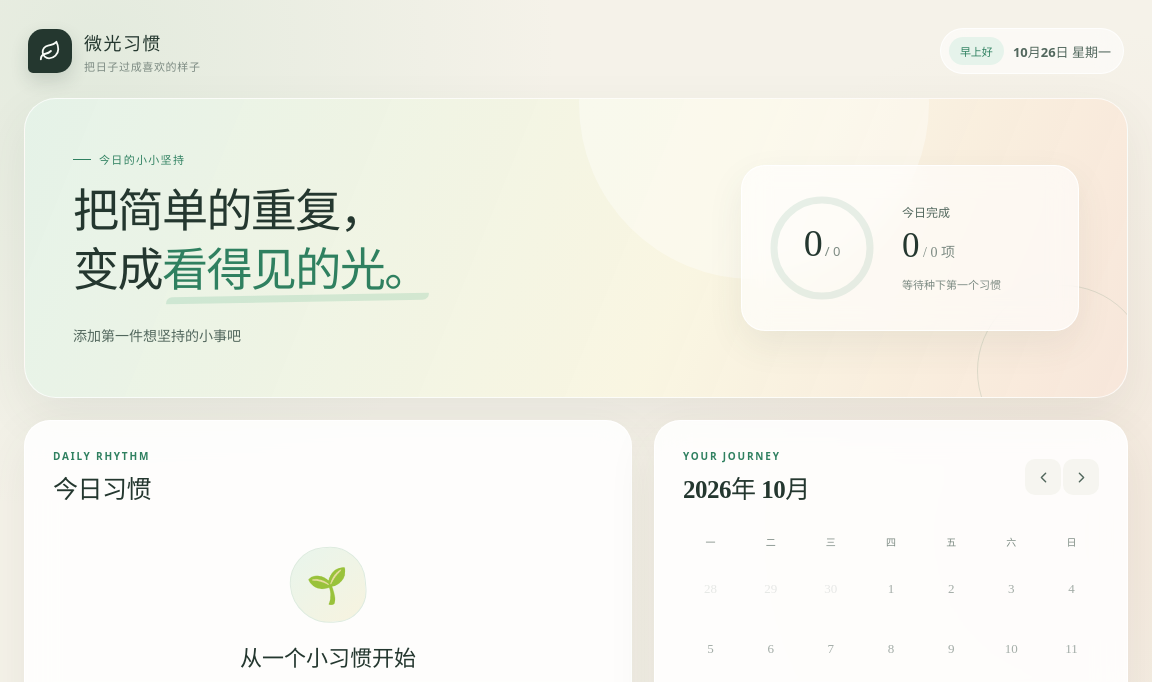
Scenario: habit check-in page › navigates months while keeping future dates disabled
The image size is (1152, 682).
Click the button named "下个月" at (1081, 477), box [1063, 459, 1099, 495]
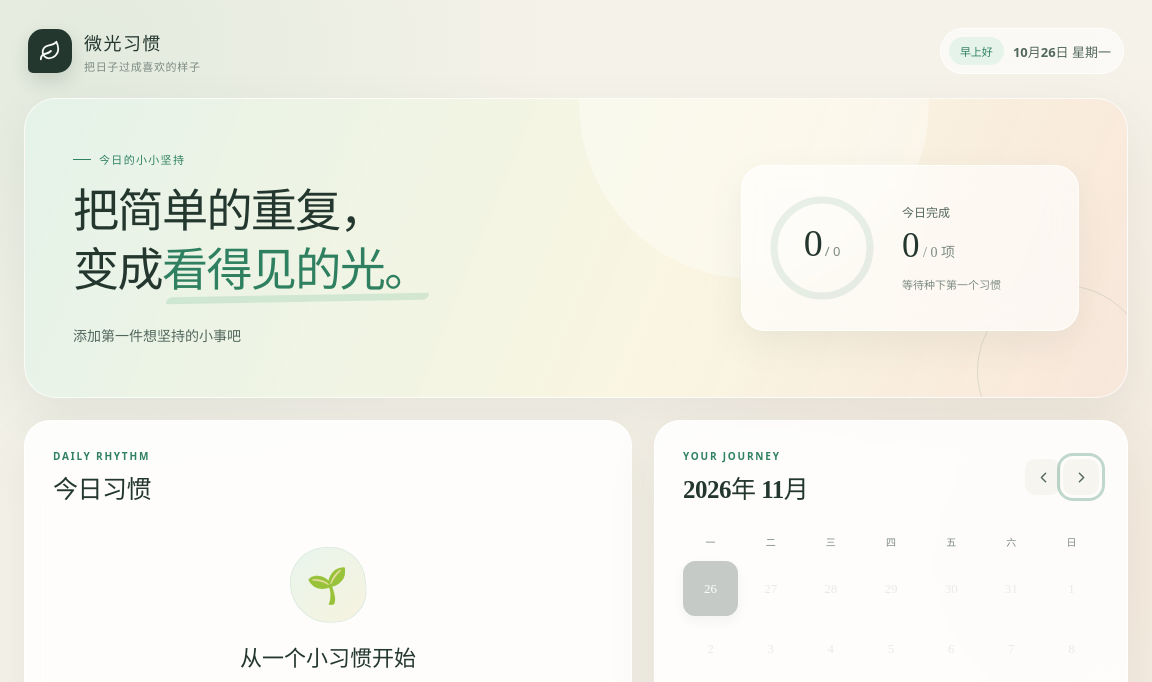
Result: the heading "2026年 11月" is shown at [683, 469, 808, 505]
